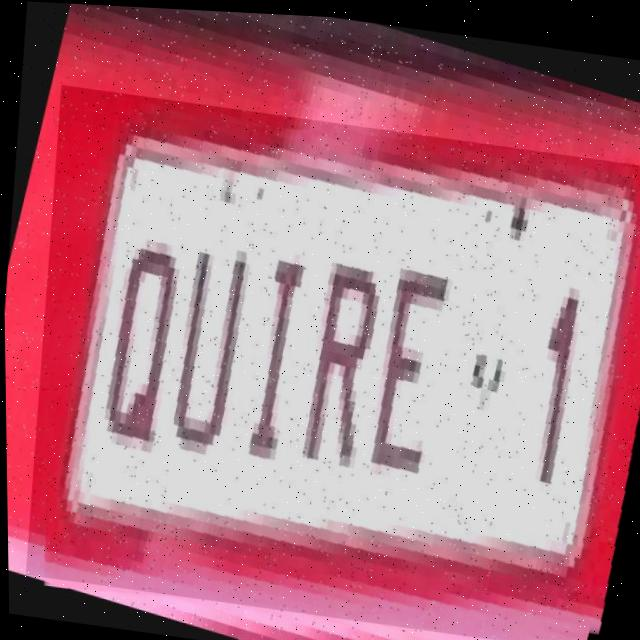LicensePlate: (17, 82, 640, 640)
